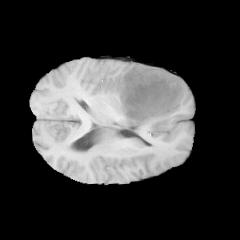glioma: (119, 63, 186, 130)
